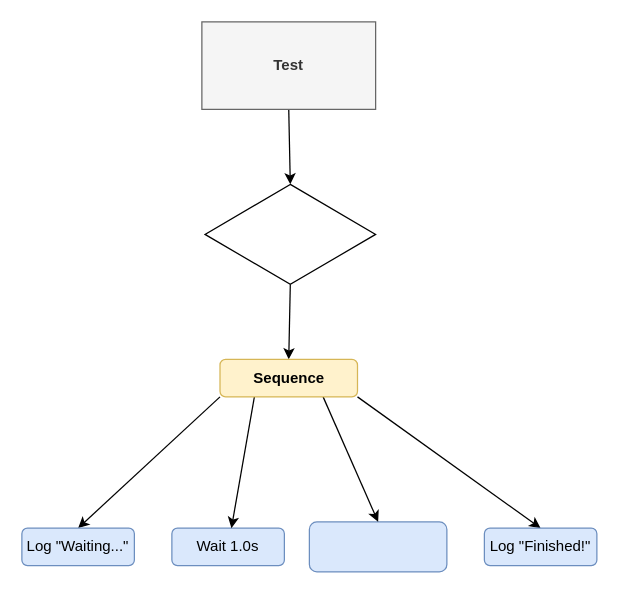
Image size: 619x594. Some labels were removed from this diagram. Each missing label, with the box of its shape:
"Waited" == false: (204, 183, 376, 284)
SetValue "Waited" = true: (308, 521, 447, 572)
